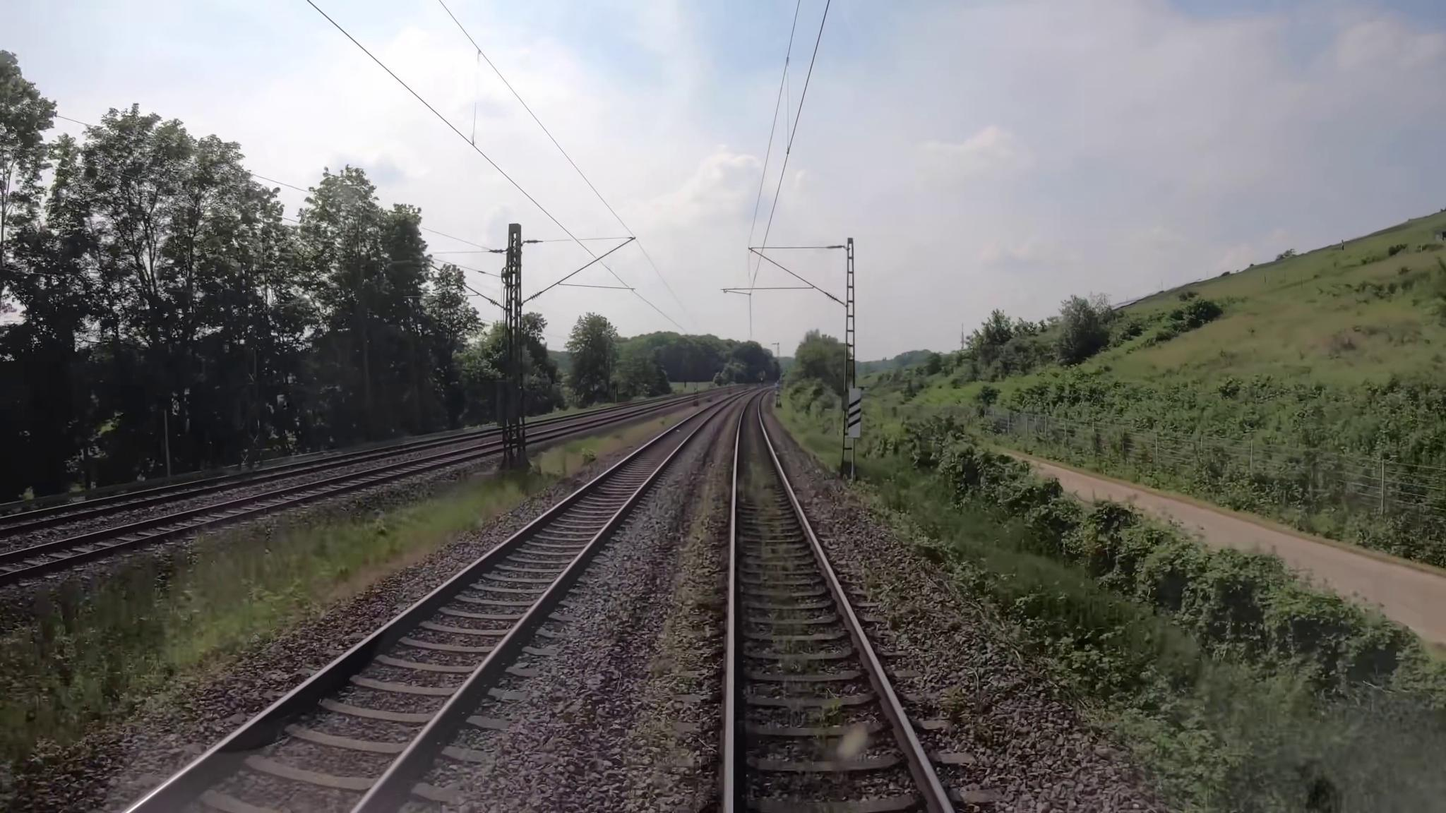Plant: (747, 458, 805, 667)
